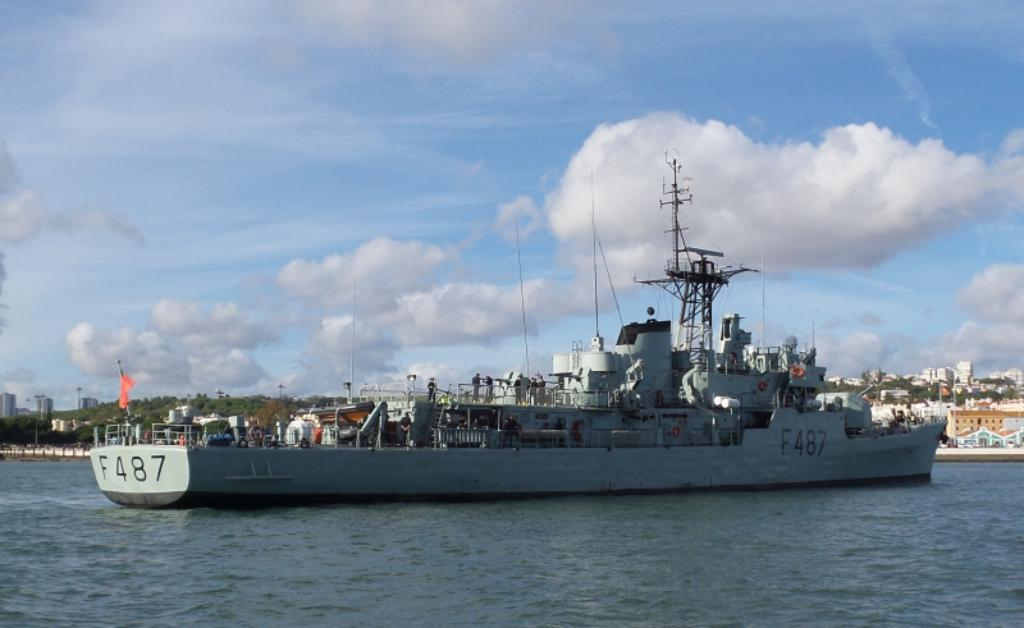Warship: (90, 149, 954, 513)
